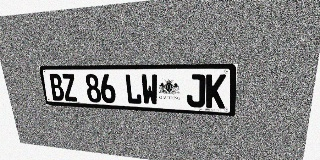6: (99, 74, 116, 103)
8: (84, 74, 102, 103)
B: (48, 74, 65, 101)
J: (186, 74, 205, 108)
K: (206, 74, 226, 109)
L: (124, 74, 142, 105)
W: (141, 74, 159, 105)
Z: (61, 74, 78, 101)
